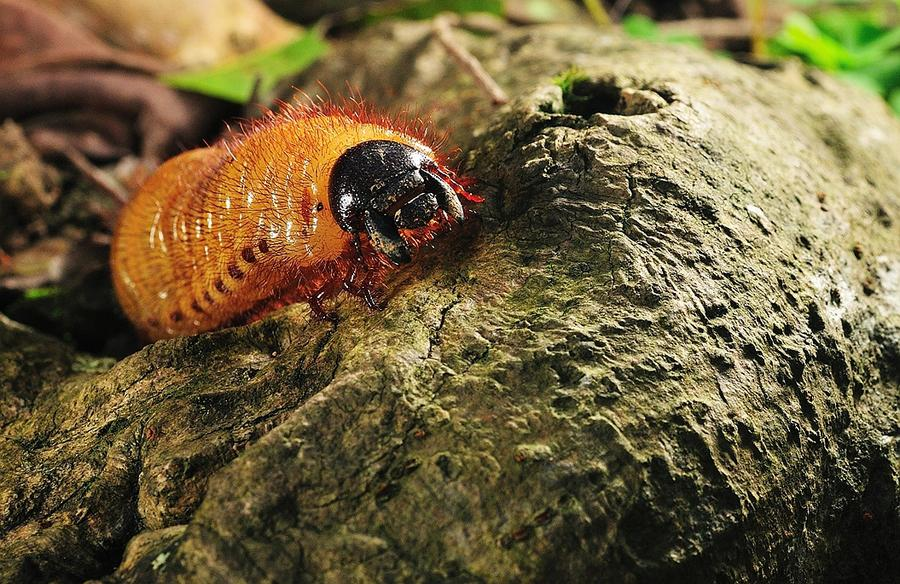grub: (108, 71, 481, 344)
